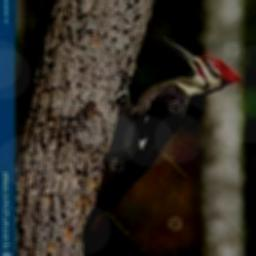Woodpecker: (82, 36, 240, 239)
